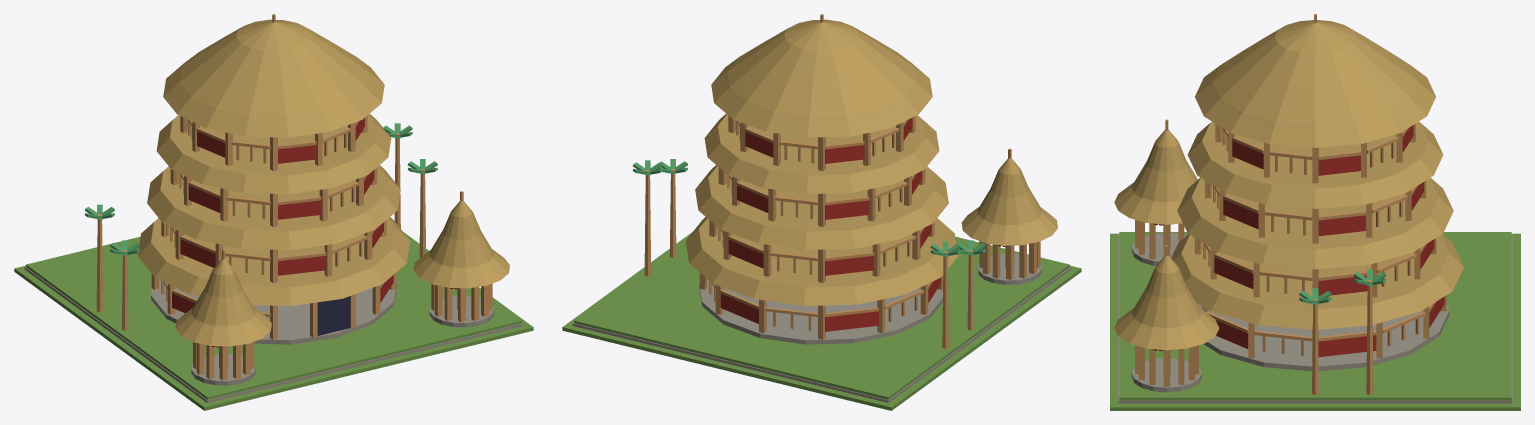
File: house-2x2-4f-fale-a.glb
3 renders of one model, left to right at view 1: azimuth 30°, elevation 25°; view 2: azimuth 150°, elevation 25°; view 3: azimuth 270°, elevation 25°, orthographic. The views are drawn at different scales.
Parts seen in each view (by area): view 1: house-2x2-4f-fale-a; view 2: house-2x2-4f-fale-a; view 3: house-2x2-4f-fale-a.
Part boxes in pixels (left/top/right/bottom): house-2x2-4f-fale-a: left=14, top=14, right=533, bottom=410; house-2x2-4f-fale-a: left=562, top=14, right=1081, bottom=410; house-2x2-4f-fale-a: left=1110, top=14, right=1520, bottom=410.
Size of the model in its own units: 1.99 by 1.65 by 1.99.
1 material, 1 textured.
